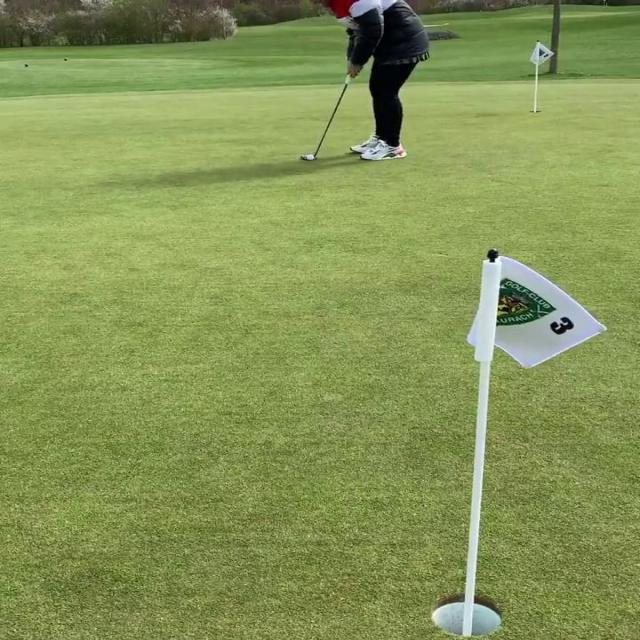golf ball: (306, 154, 313, 160)
golf club-handle: (302, 73, 352, 160)
golf club-head: (302, 154, 314, 160)
